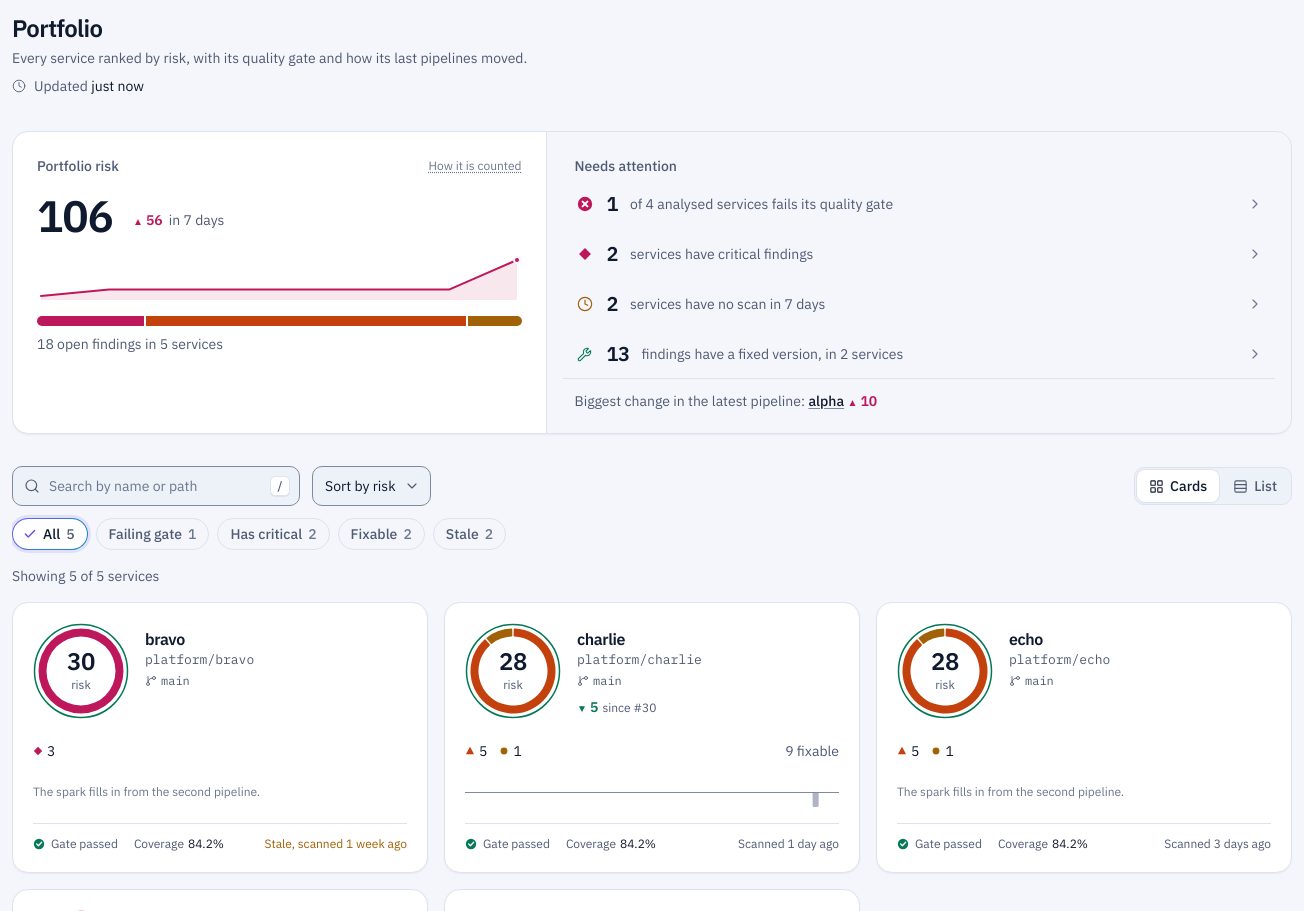
Test: PortfolioPage › sums the portfolio and lists what needs attention, each a filter
The width and height of the screenshot is (1304, 911).
Later steps or results of the test are not shown.
Expected: the text with test id "portfolio-risk" reads "106", x1=37 y1=187 x2=113 y2=244
Expected: the text "of 4 analysed services fails its quality gate" is shown, x1=630 y1=195 x2=893 y2=213
Click the button "2 services have critical findings".
click(722, 254)  # box x1=562 y1=230 x2=1275 y2=278
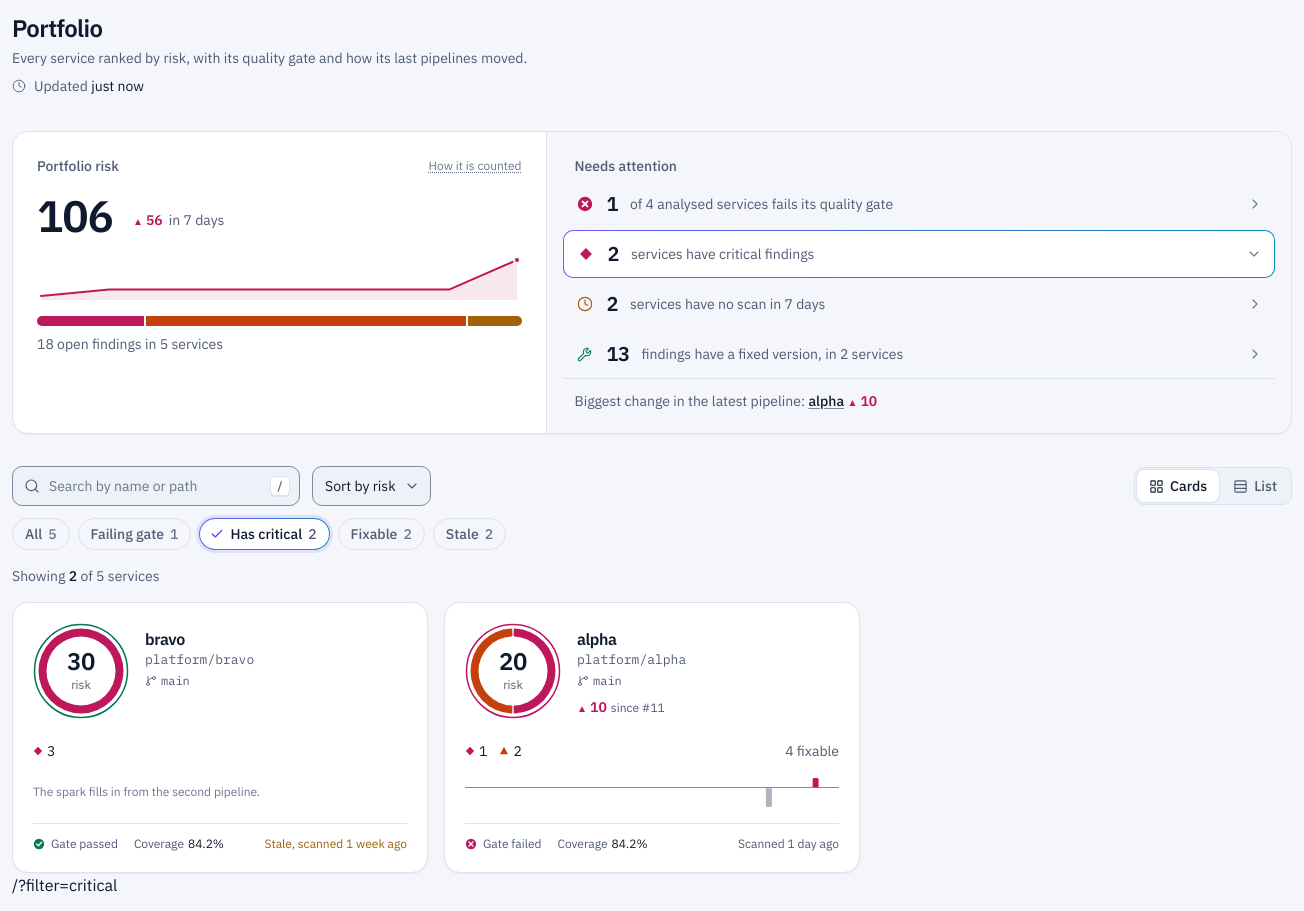
Expected: the text with test id "location" reads "/?filter=critical", x1=12 y1=875 x2=117 y2=895
